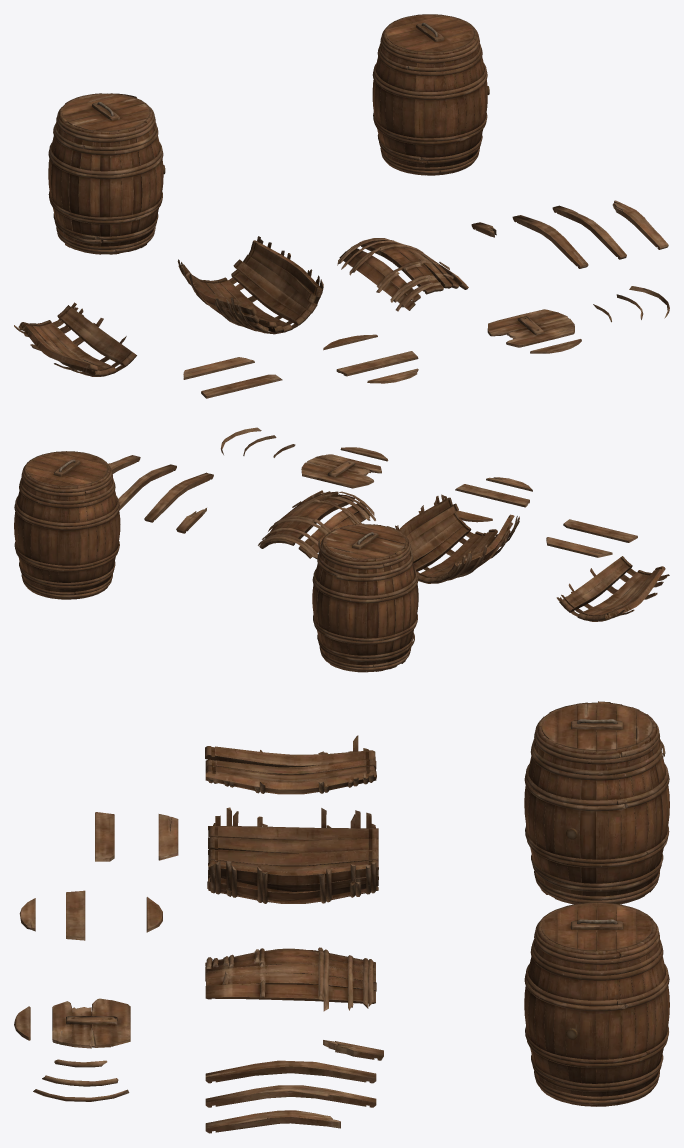
File: wooden_barrels_01.glb
3 renders of one model, top to bottom at view 1: azimuth 30°, elevation 25°; view 2: azimuth 150°, elevation 25°; view 3: azimuth 270°, elevation 25°, orthographic. The views are drawn at different scales.
Visible parts, largest first — view 1: wooden_barrels_01_piece01, wooden_barrels_01_barrel02, wooden_barrels_01_barrel01; view 2: wooden_barrels_01_piece01, wooden_barrels_01_barrel02, wooden_barrels_01_barrel01; view 3: wooden_barrels_01_piece01, wooden_barrels_01_barrel01, wooden_barrels_01_barrel02.
Boxes of the visible parts, left/top/right/bottom form: wooden_barrels_01_piece01: left=14, top=200, right=669, bottom=398; wooden_barrels_01_barrel02: left=48, top=93, right=165, bottom=254; wooden_barrels_01_barrel01: left=372, top=14, right=489, bottom=175; wooden_barrels_01_piece01: left=108, top=427, right=669, bottom=621; wooden_barrels_01_barrel02: left=312, top=523, right=418, bottom=672; wooden_barrels_01_barrel01: left=14, top=451, right=120, bottom=599; wooden_barrels_01_piece01: left=14, top=735, right=383, bottom=1133; wooden_barrels_01_barrel01: left=524, top=902, right=669, bottom=1106; wooden_barrels_01_barrel02: left=524, top=701, right=669, bottom=904.
Bounding box in the file's own units: 4.44 × 0.9554 × 3.34.
Materials: 3 (3 with a texture image).
